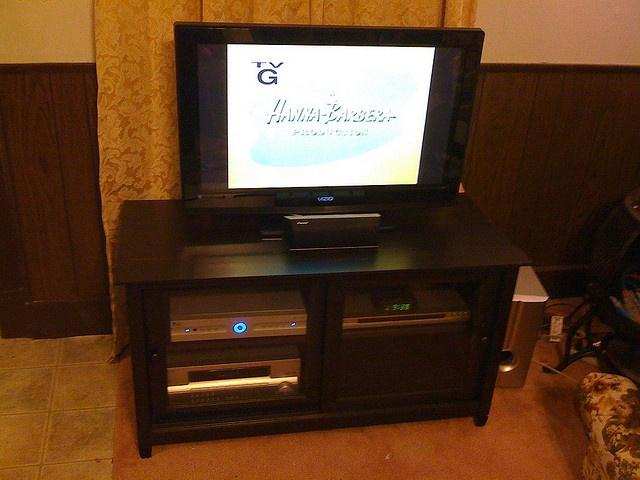AIO PC-Monitor-TV: (173, 20, 484, 240)
